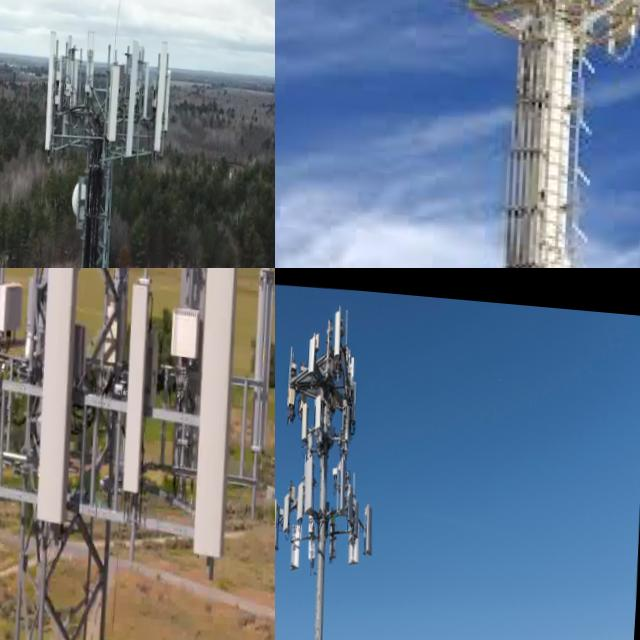GSM Antenna: (192, 268, 257, 552), (38, 268, 96, 534), (124, 268, 165, 489), (173, 268, 214, 410), (252, 268, 275, 466), (153, 24, 176, 151), (0, 268, 14, 466), (127, 27, 146, 161), (46, 21, 63, 144), (108, 58, 127, 140), (66, 27, 83, 110), (84, 22, 100, 99), (303, 450, 318, 507), (332, 299, 345, 353), (366, 492, 378, 550), (297, 470, 308, 526), (293, 513, 304, 568), (282, 486, 296, 529), (348, 347, 359, 390), (302, 397, 313, 435), (307, 329, 317, 368), (315, 386, 324, 426), (275, 491, 281, 550)
Microwave Antenna: (73, 170, 100, 228)
